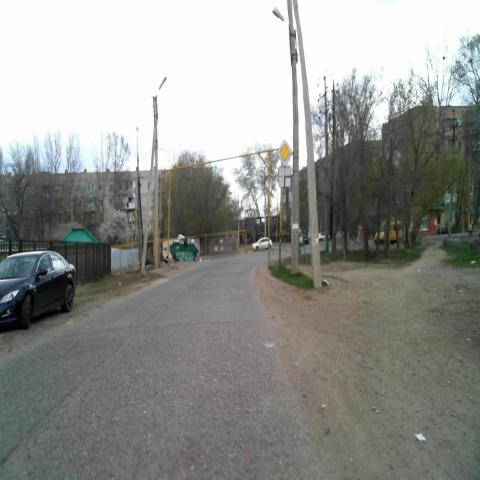2_1: (276, 139, 292, 166)
8_13: (278, 166, 291, 188)
